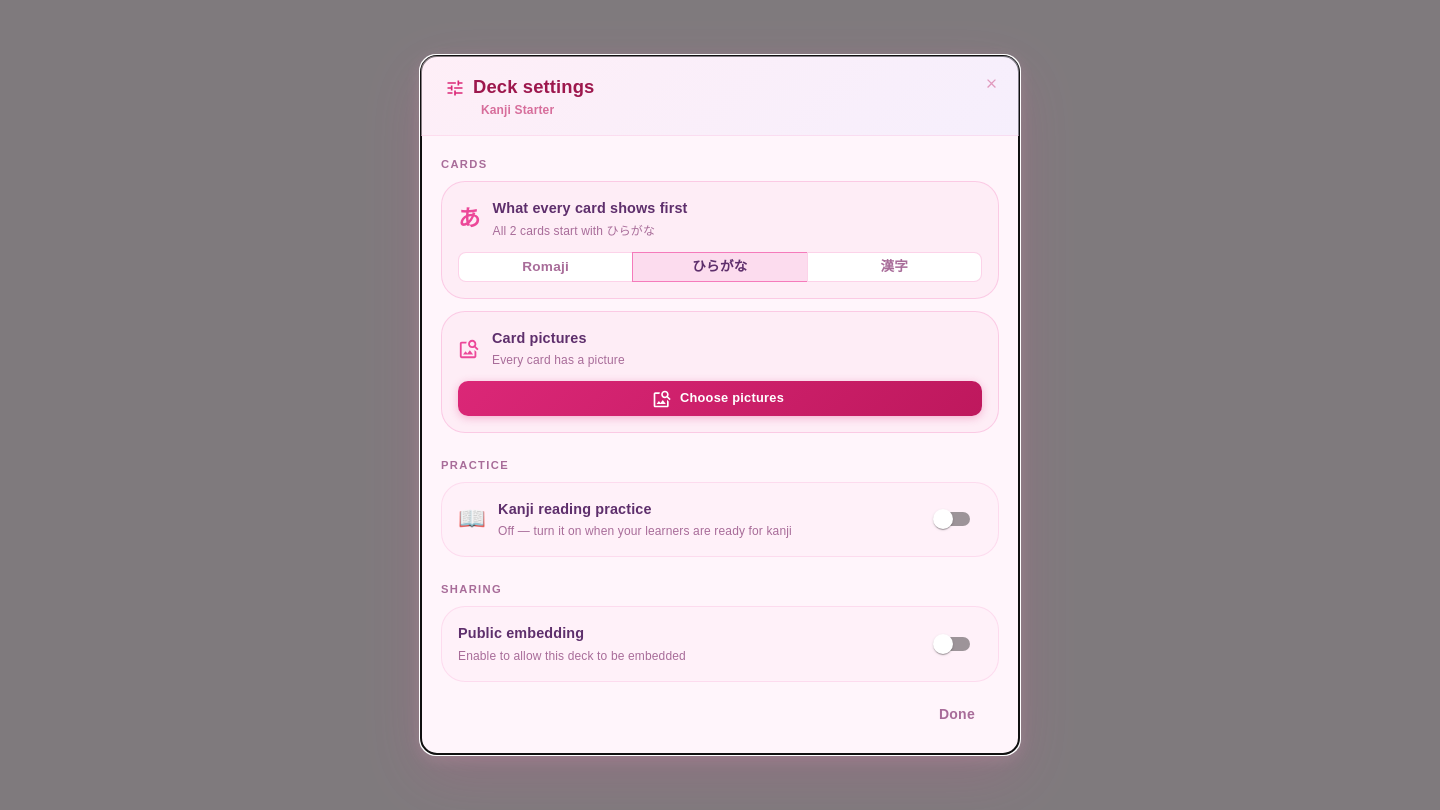
Test case: DeckSettingsDialog › lets a card that already has a picture be ticked for a different one
Click the button "Choose pictures". click: (720, 399)
box: [458,381,982,416]
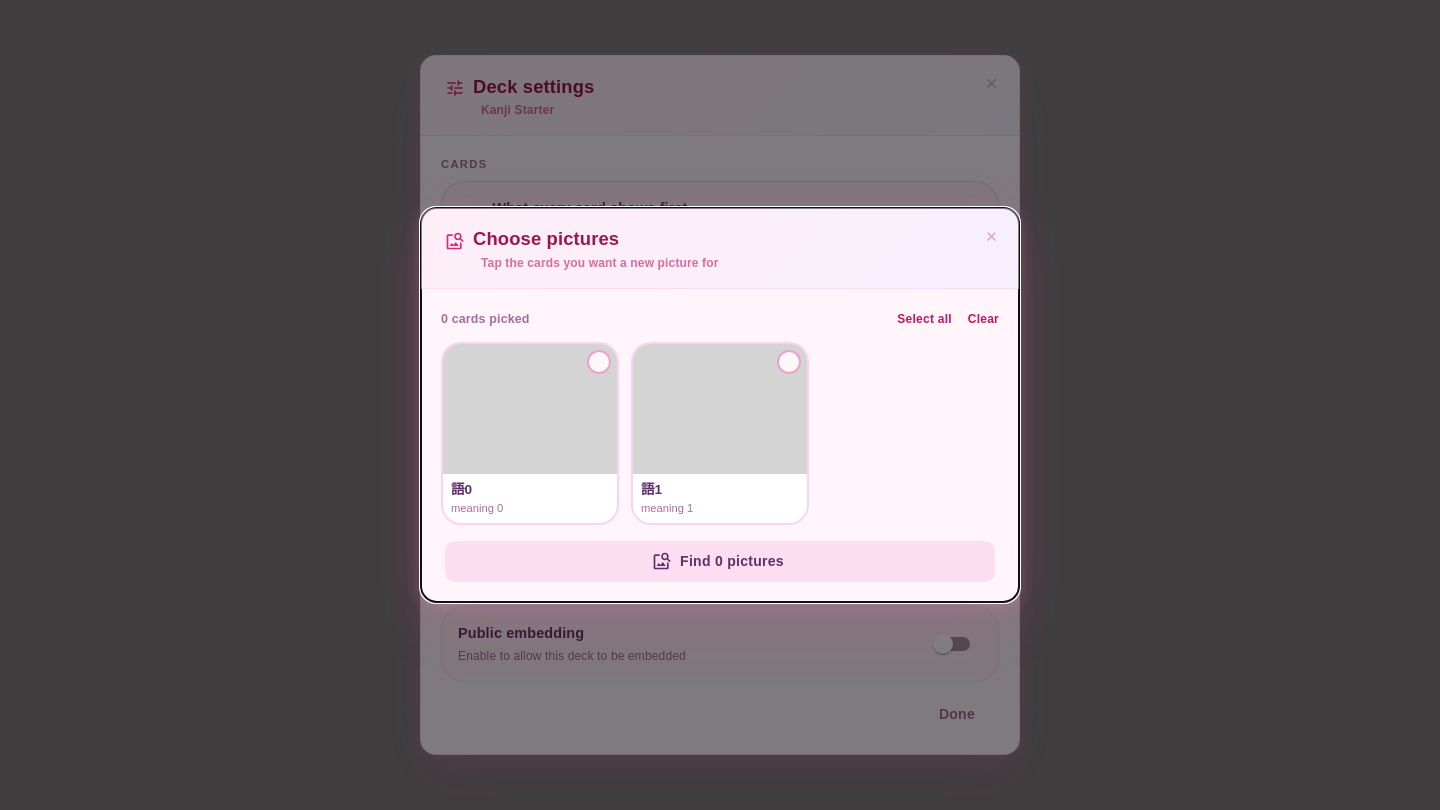
Expected: the button "Find 0 pictures" is disabled, [445,541,995,582]
Click the checkbox labelled "語0 meaning 0". click: (530, 433)
box: [441,342,619,525]
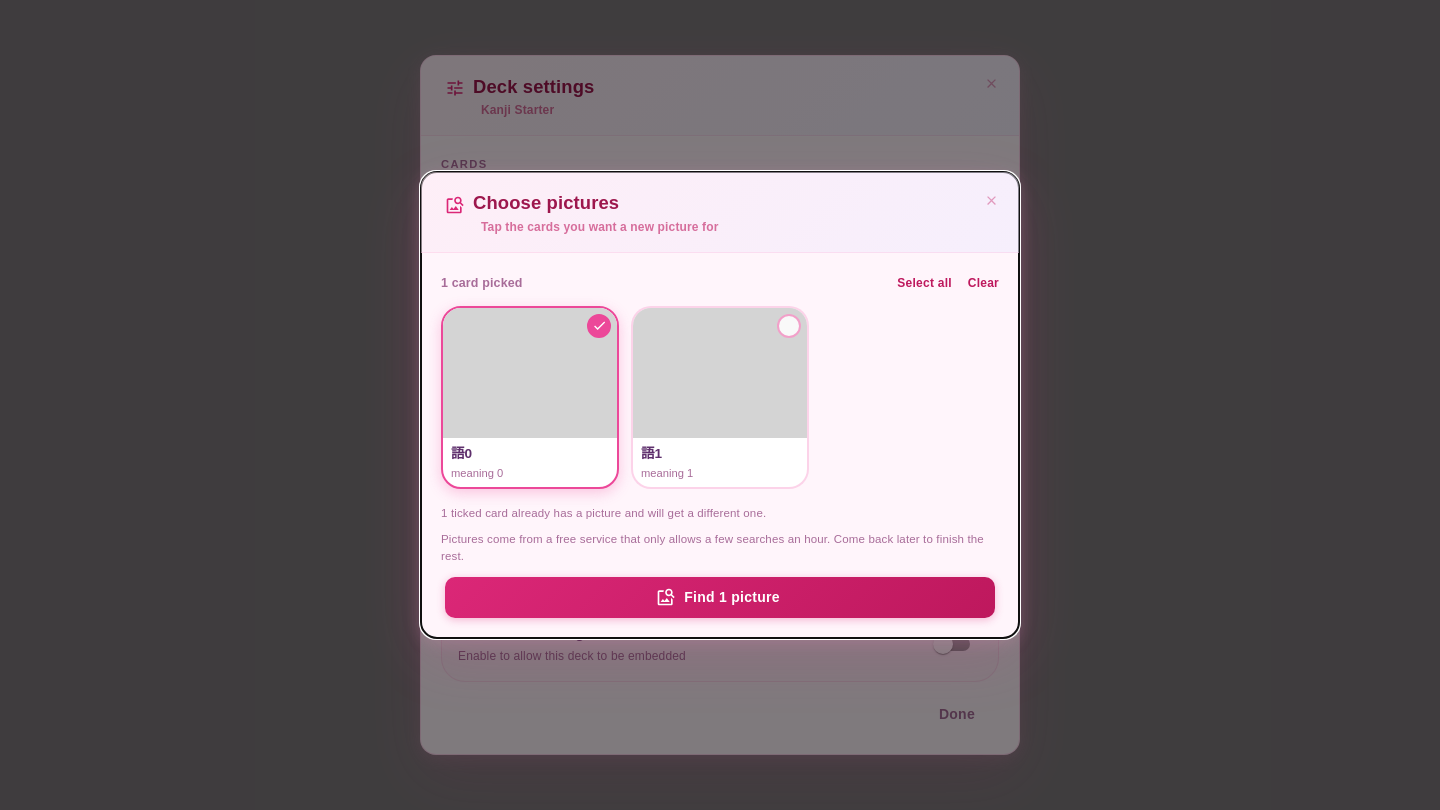
Expected: the button "Find 1 picture" is enabled, [445,577,995,618]
Expected: the text "1 ticked card already has a picture and will get a different one." is shown, [441,507,766,519]
